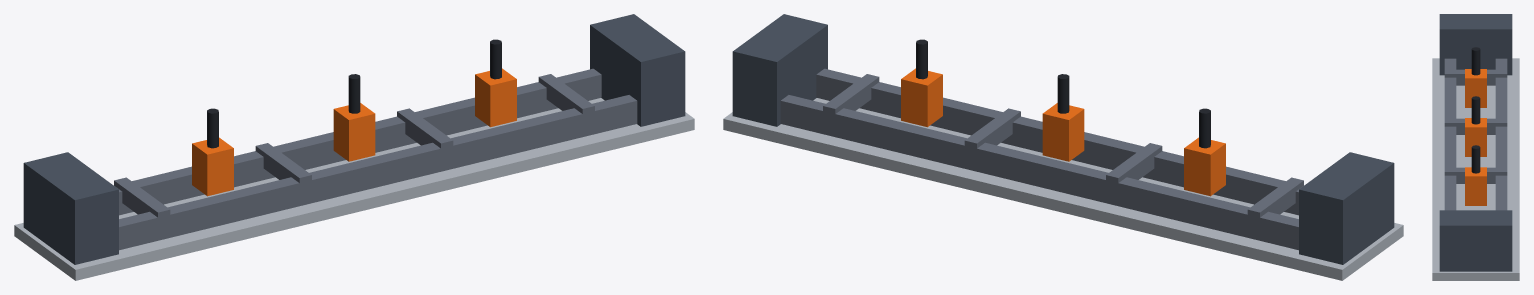
3 views of the same model, side by side, from view 1: azimuth 30°, elevation 25°; view 2: azimuth 150°, elevation 25°; view 3: azimuth 270°, elevation 25° (orthographic). The views are drawn at different scales.
Size of the model in its own units: 7 by 1.15 by 1.2.
